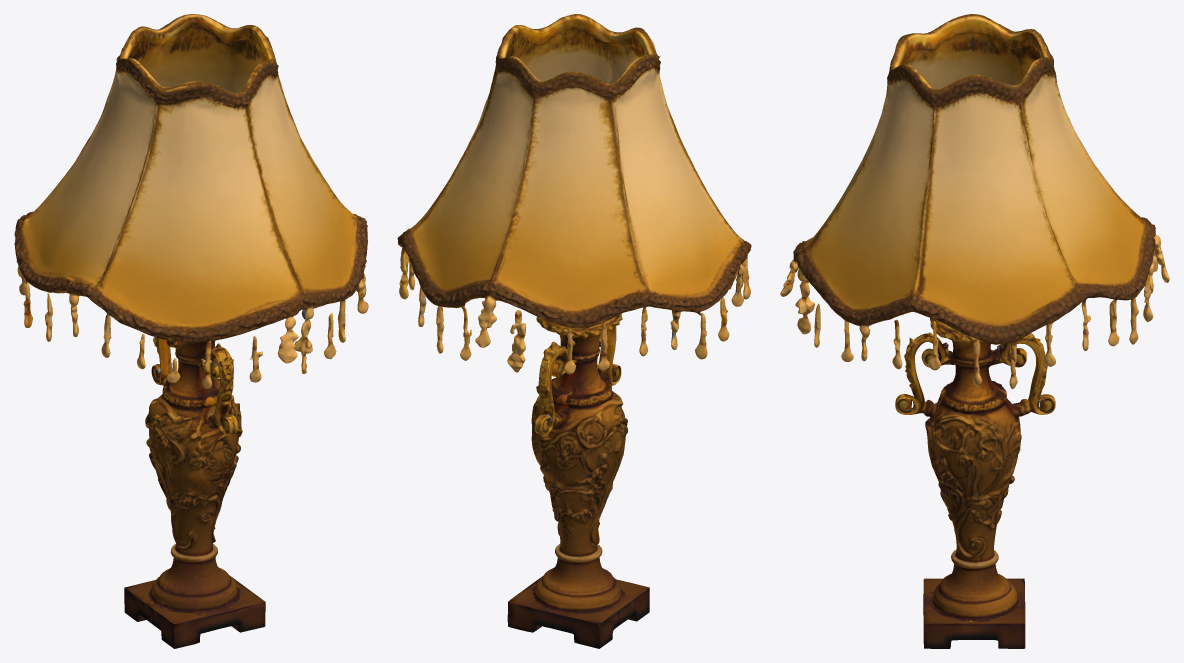
Rendered from lampara.fbx.
3 renders of one model, left to right at view 1: azimuth 30°, elevation 25°; view 2: azimuth 150°, elevation 25°; view 3: azimuth 270°, elevation 25°, orthographic.
Visible parts, largest first — view 1: tripo_node_e5371177; view 2: tripo_node_e5371177; view 3: tripo_node_e5371177.
Part boxes in pixels (left/top/right/bottom): tripo_node_e5371177: left=14, top=14, right=368, bottom=648; tripo_node_e5371177: left=397, top=14, right=751, bottom=648; tripo_node_e5371177: left=780, top=14, right=1169, bottom=648.
Size of the model in its own units: 0.5485 by 1 by 0.6058.
Materials: 1 (1 with a texture image).
